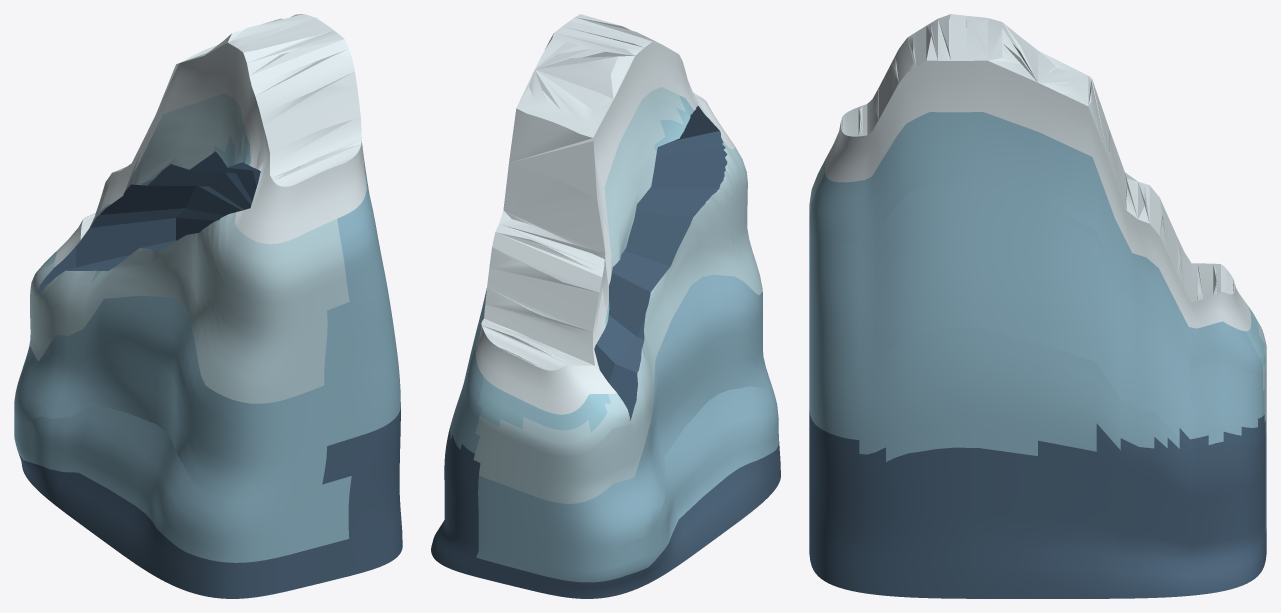
The model's file is fault-massif.glb.
3 views of the same model, side by side, from view 1: azimuth 30°, elevation 25°; view 2: azimuth 150°, elevation 25°; view 3: azimuth 270°, elevation 25° (orthographic). The views are drawn at different scales.
Visible parts, largest first — view 1: fracture_massif__closed_fault_ice; view 2: fracture_massif__closed_fault_ice; view 3: fracture_massif__closed_fault_ice.
Part boxes in pixels (bbox=[...]): fracture_massif__closed_fault_ice: bbox=[14, 14, 402, 598]; fracture_massif__closed_fault_ice: bbox=[431, 14, 780, 598]; fracture_massif__closed_fault_ice: bbox=[809, 14, 1266, 598].
Size of the model in its own units: 230 by 450 by 360.
